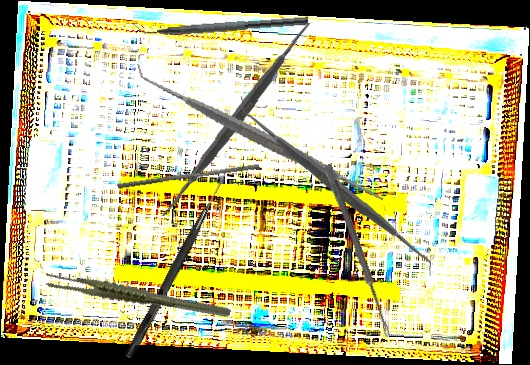Chopper: (130, 4, 309, 41)
Hook Surgical: (124, 172, 228, 361)
Pusher: (117, 158, 260, 195)
Spatula Surgical: (137, 17, 386, 258), (137, 21, 335, 218), (240, 91, 432, 280)
Surgical Spoon: (322, 163, 394, 338)
Tissue Forceps: (41, 241, 233, 352)
